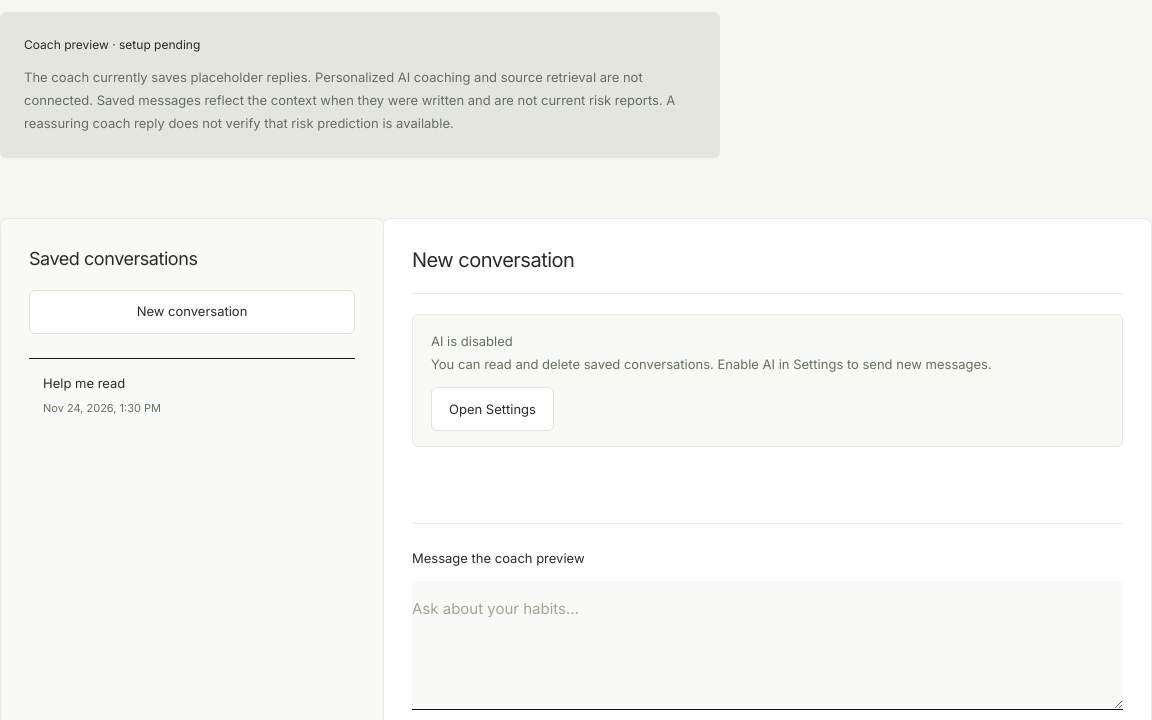
Test: saved backend coach preview › reads and deletes saved chats while AI is off and blocks all new sends
Click the button "Help me read Nov 24, 2026, 1:30 PM" at (84, 383), box [29,358,355,431]
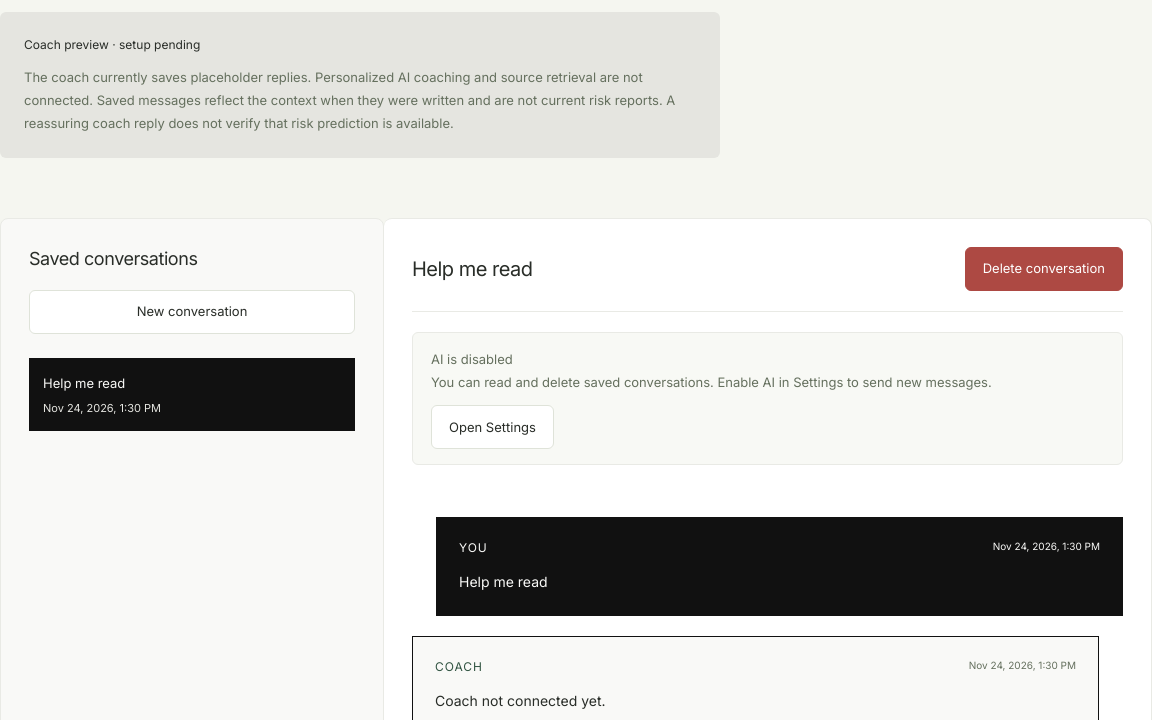
Click the button "Delete conversation" at (1044, 269), box [965,247,1123,291]
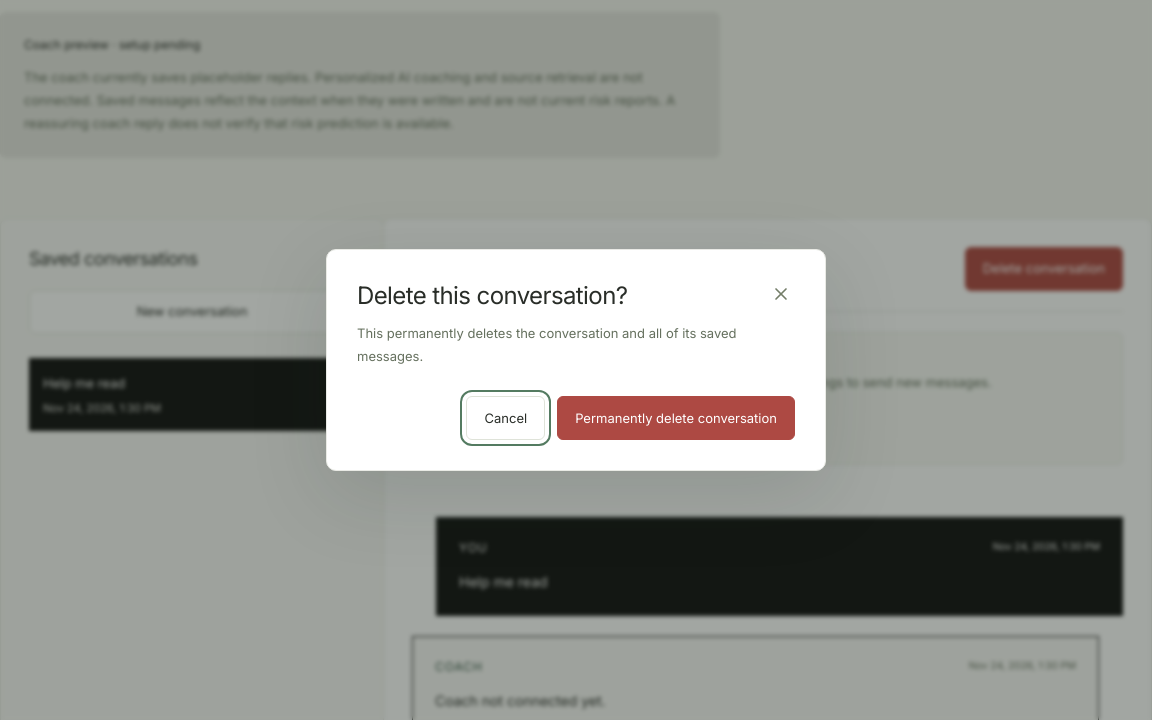
Click the button "Permanently delete conversation" at (676, 418), box [557,396,795,440]
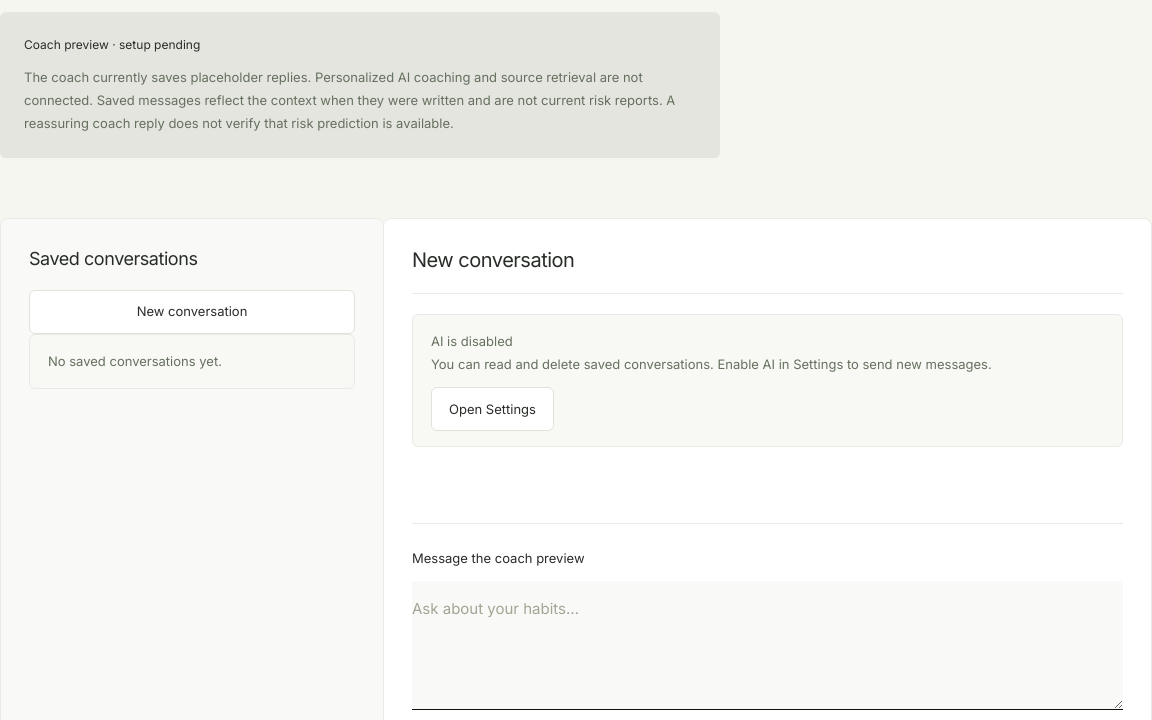
Result: the text "No saved conversations yet" is shown at [48,353,222,369]
